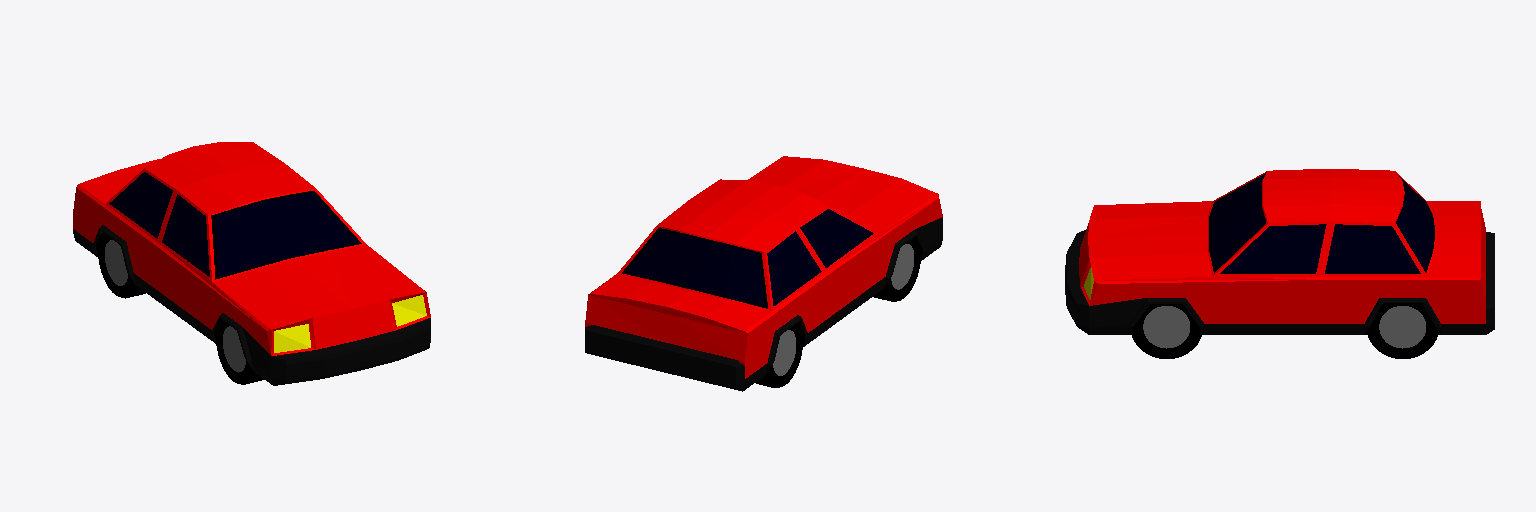
Rendered from Car.obj.
The picture shows the model from 3 angles: view 1: azimuth 30°, elevation 25°; view 2: azimuth 150°, elevation 25°; view 3: azimuth 270°, elevation 25°; orthographic projection.
Visible parts, largest first — view 1: Car; view 2: Car; view 3: Car.
Part boxes in pixels (x1,y1,x2,y2): Car: (73,142,430,385); Car: (585,156,942,391); Car: (1065,169,1494,358).
Bounding box in the file's own units: 2.1 × 1.59 × 4.67.